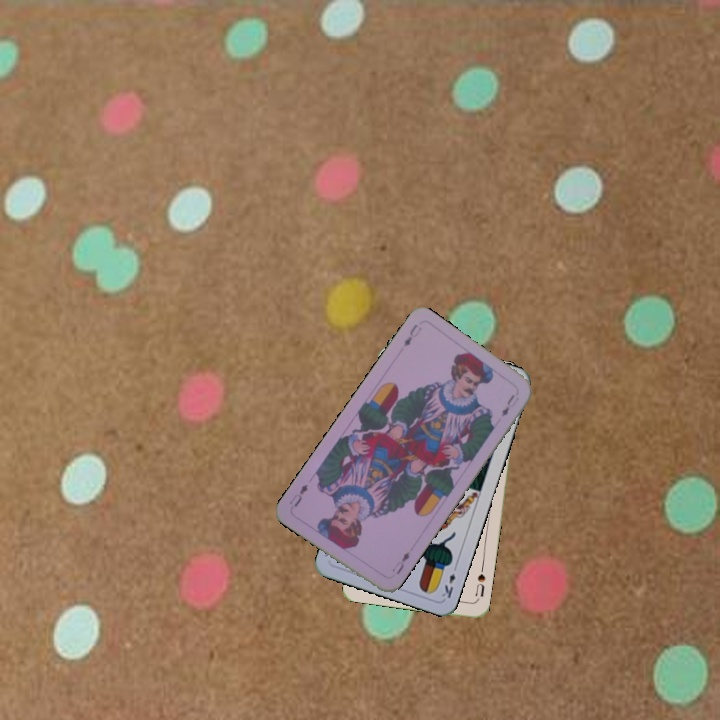EK: (437, 561, 460, 601)
EU: (387, 547, 412, 577), (399, 320, 424, 349)
SU: (471, 563, 488, 603)
